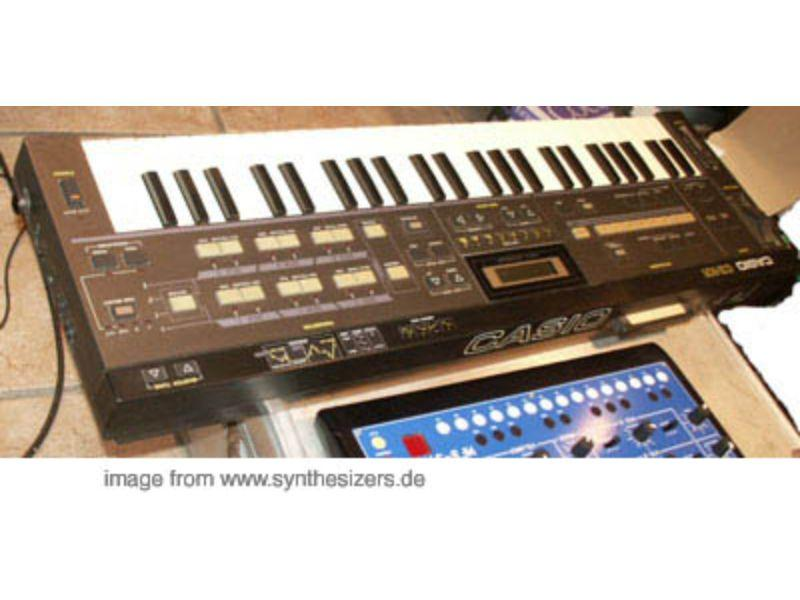synthesizer: (17, 120, 786, 346)
